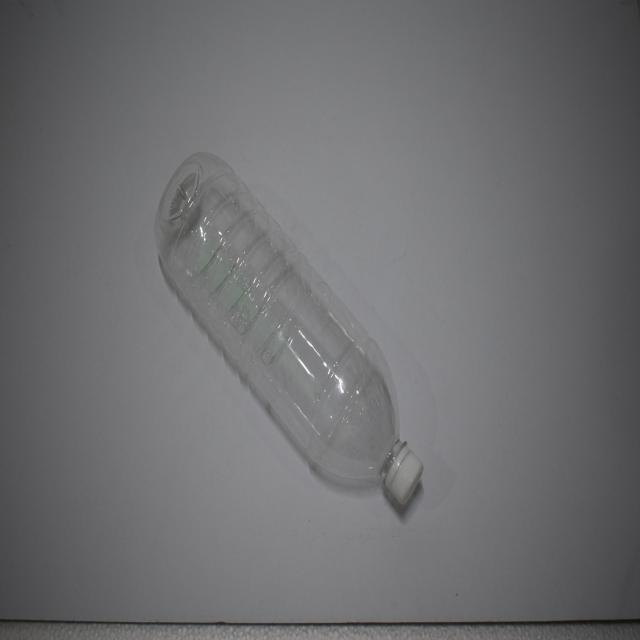bottle: (133, 140, 440, 540)
